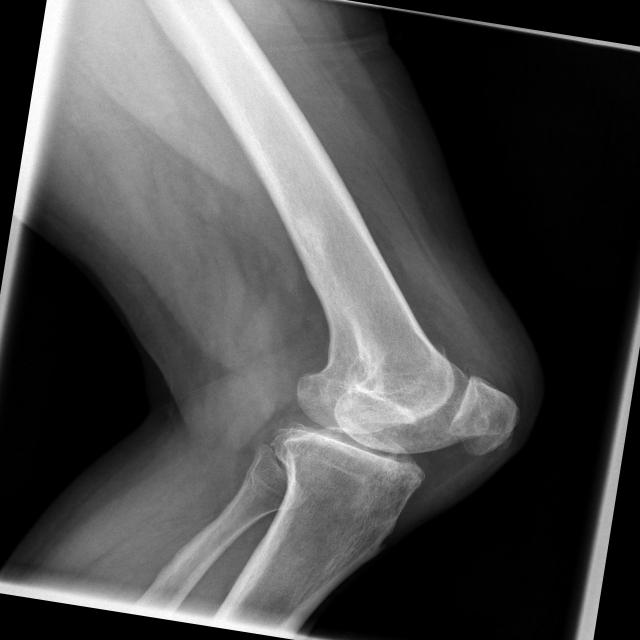Knee: (265, 305, 533, 532)
